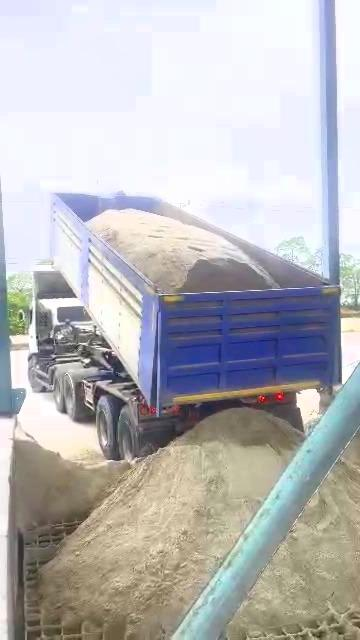sand: (42, 408, 302, 639), (230, 462, 360, 637), (87, 209, 278, 292), (13, 426, 129, 529), (346, 430, 360, 466)
